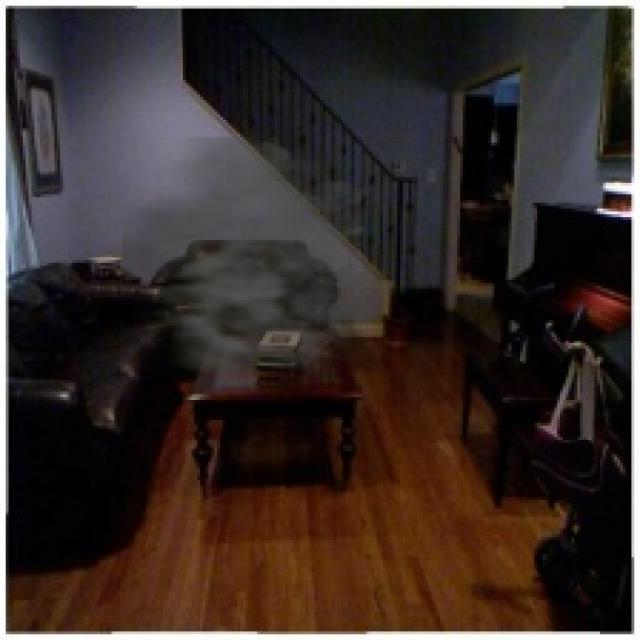smoke: (123, 137, 400, 397)
